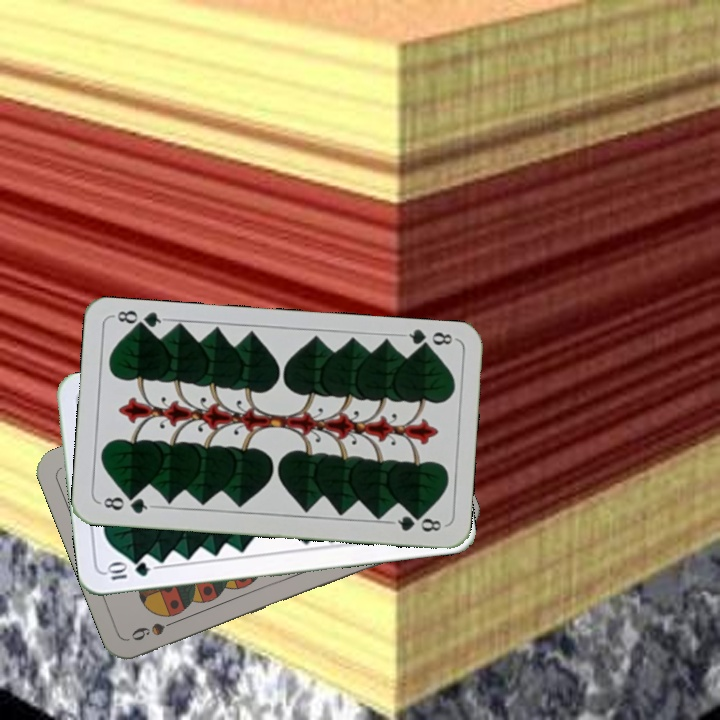G10: (102, 558, 153, 583)
G8: (398, 325, 455, 354), (96, 492, 155, 517)
S9: (126, 614, 184, 644)
